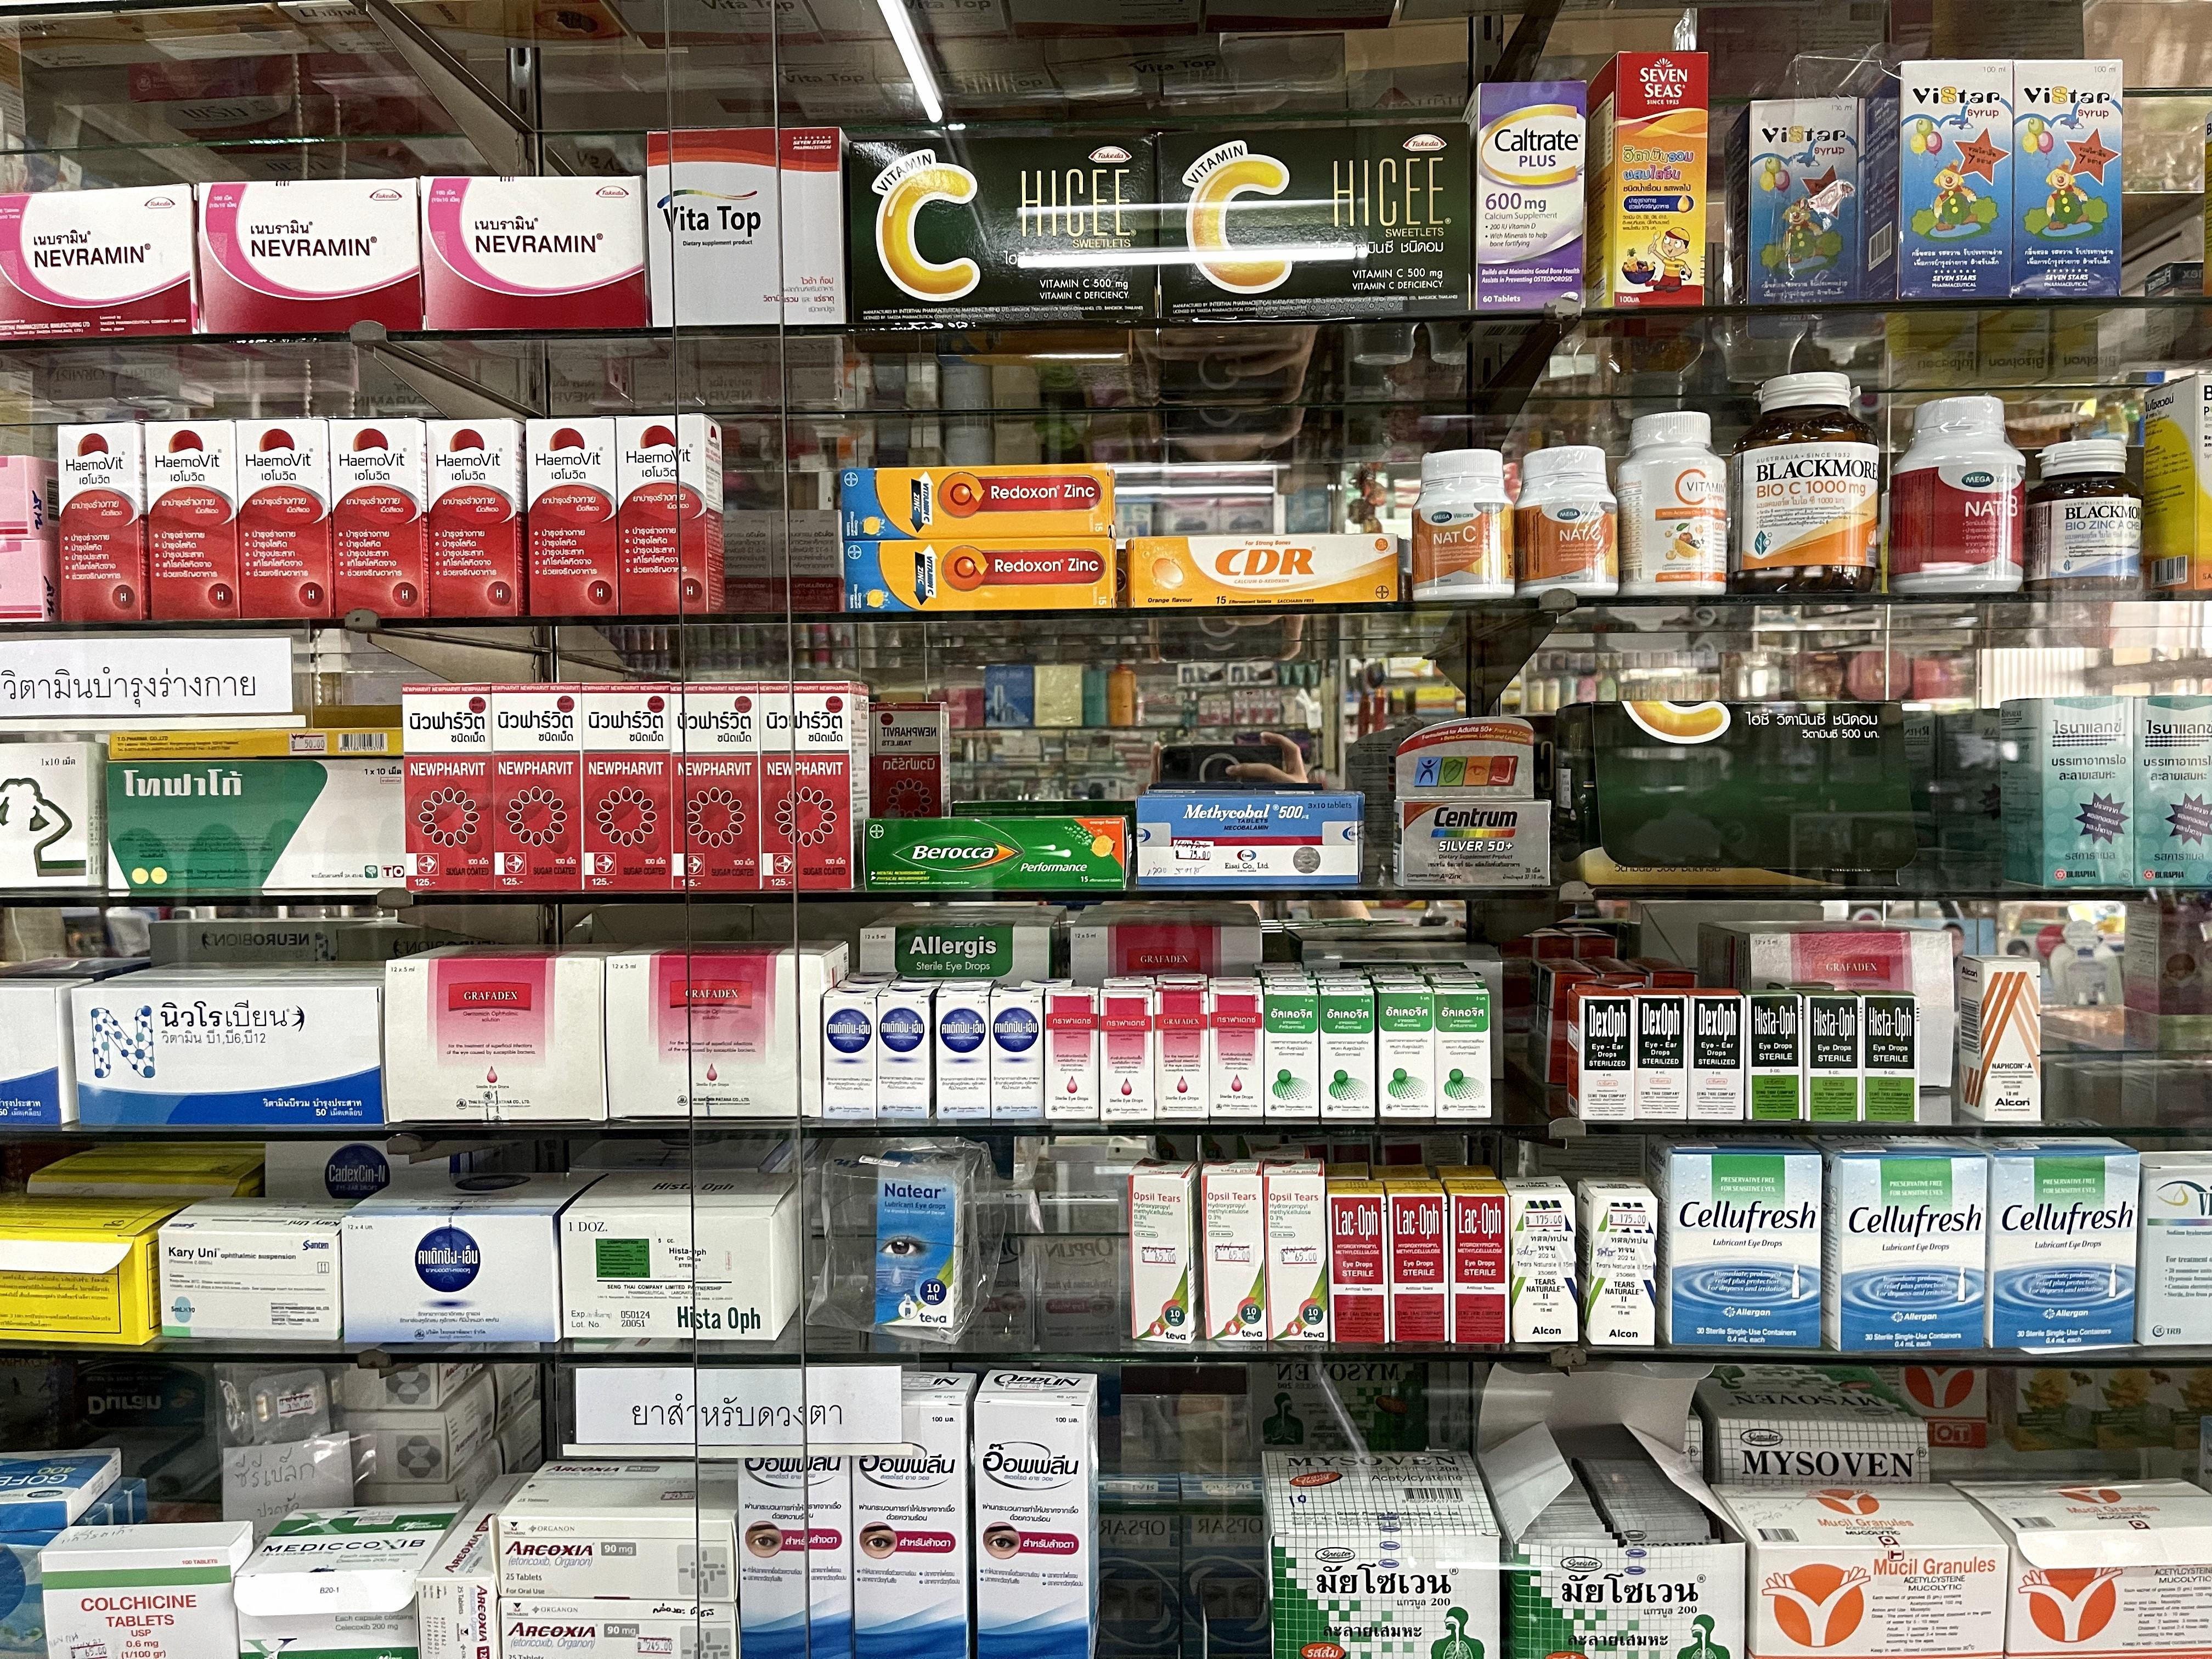Allergis: (1430, 983, 1491, 1119), (1374, 983, 1435, 1117), (1318, 983, 1378, 1119), (1263, 983, 1322, 1117)
Blackmores: (1730, 371, 1879, 594)
Grafadex: (1099, 986, 1157, 1121), (1209, 983, 1266, 1117), (1043, 986, 1101, 1119), (1155, 985, 1211, 1117)
Heamovit: (617, 415, 725, 613), (329, 418, 432, 617), (235, 416, 334, 619), (427, 418, 528, 617), (57, 420, 155, 624), (146, 416, 242, 619), (524, 418, 622, 613)
Lac-Oph_Red: (1388, 1178, 1453, 1344), (1447, 1178, 1510, 1342), (1327, 1178, 1388, 1340)
NatC: (1515, 444, 1622, 598), (1413, 450, 1515, 599)
Nevramin: (197, 176, 427, 331), (418, 176, 648, 328), (0, 181, 200, 343)
Newpharvit: (758, 681, 869, 892), (669, 680, 761, 894), (493, 683, 583, 892), (580, 683, 671, 892), (404, 683, 495, 887)
Opplin: (970, 1368, 1097, 1659), (850, 1368, 975, 1659), (738, 1446, 848, 1659)
Rhinalax: (2000, 695, 2137, 890), (2132, 694, 2212, 885)
